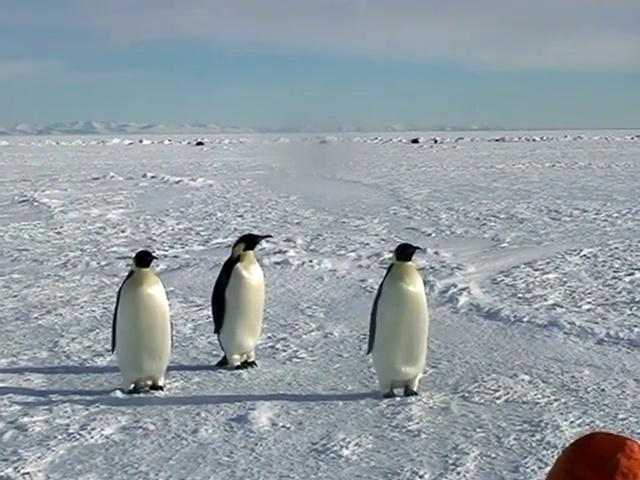animal: (369, 245, 429, 398)
